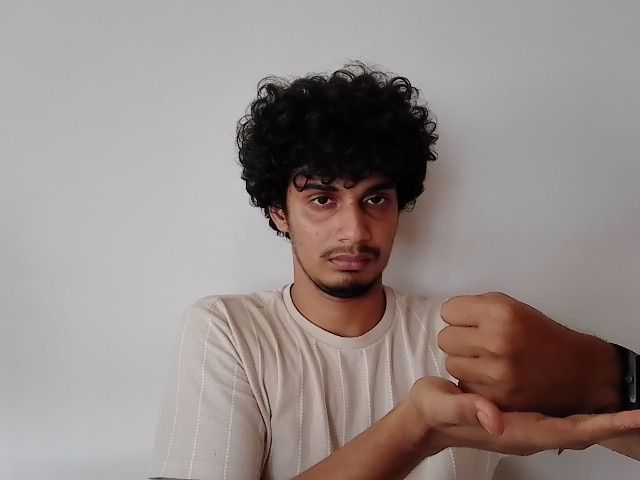help: (407, 292, 640, 455)
